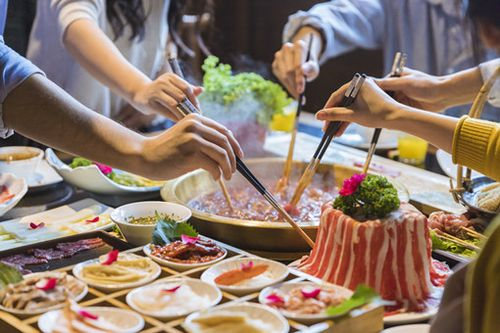food: (175, 157, 313, 249), (261, 273, 371, 323), (325, 167, 409, 220), (131, 273, 221, 322), (71, 246, 159, 294), (146, 225, 230, 272), (113, 194, 185, 245), (205, 252, 287, 293)
